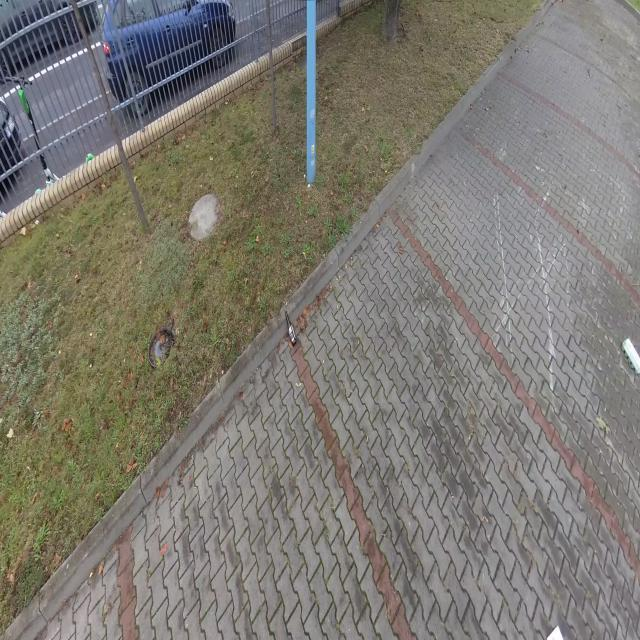rubbish: (621, 338, 639, 375), (284, 311, 297, 345), (546, 626, 565, 640)
